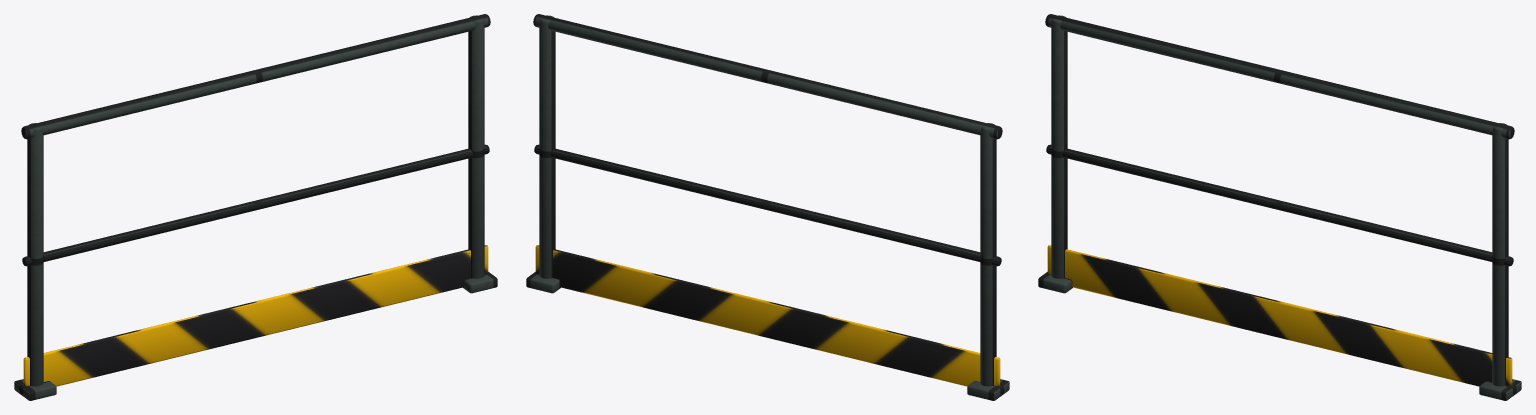
The model's file is WK_STRUCT_RAILING_2M_01.glb.
3 views of the same model, side by side, from view 1: azimuth 30°, elevation 25°; view 2: azimuth 150°, elevation 25°; view 3: azimuth 330°, elevation 25° (orthographic).
Parts seen in each view (by area): view 1: WK_STRUCT_RAILING_2M_01; view 2: WK_STRUCT_RAILING_2M_01; view 3: WK_STRUCT_RAILING_2M_01.
Boxes of the visible parts, x1=… form: WK_STRUCT_RAILING_2M_01: x1=14, y1=14, x2=497, y2=400; WK_STRUCT_RAILING_2M_01: x1=526, y1=14, x2=1009, y2=400; WK_STRUCT_RAILING_2M_01: x1=1038, y1=14, x2=1521, y2=400.
Bounding box in the file's own units: 2.02 × 1.11 × 0.12.
2 materials, 2 textured.
